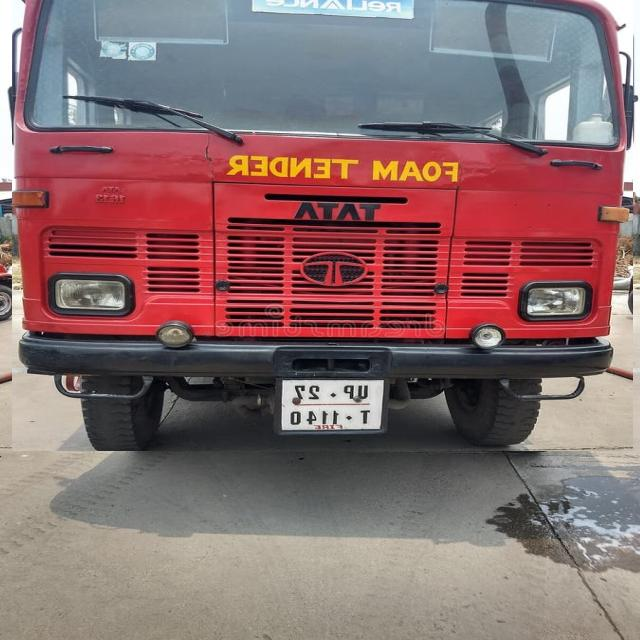emergency: (12, 0, 633, 451)
